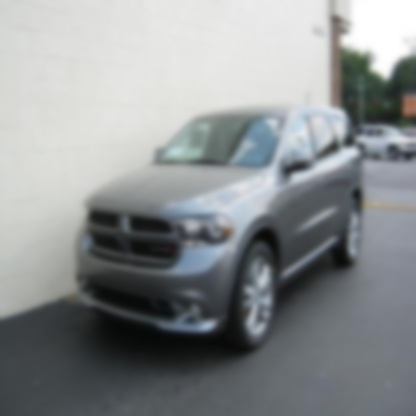Vehicle: (74, 93, 365, 352)
